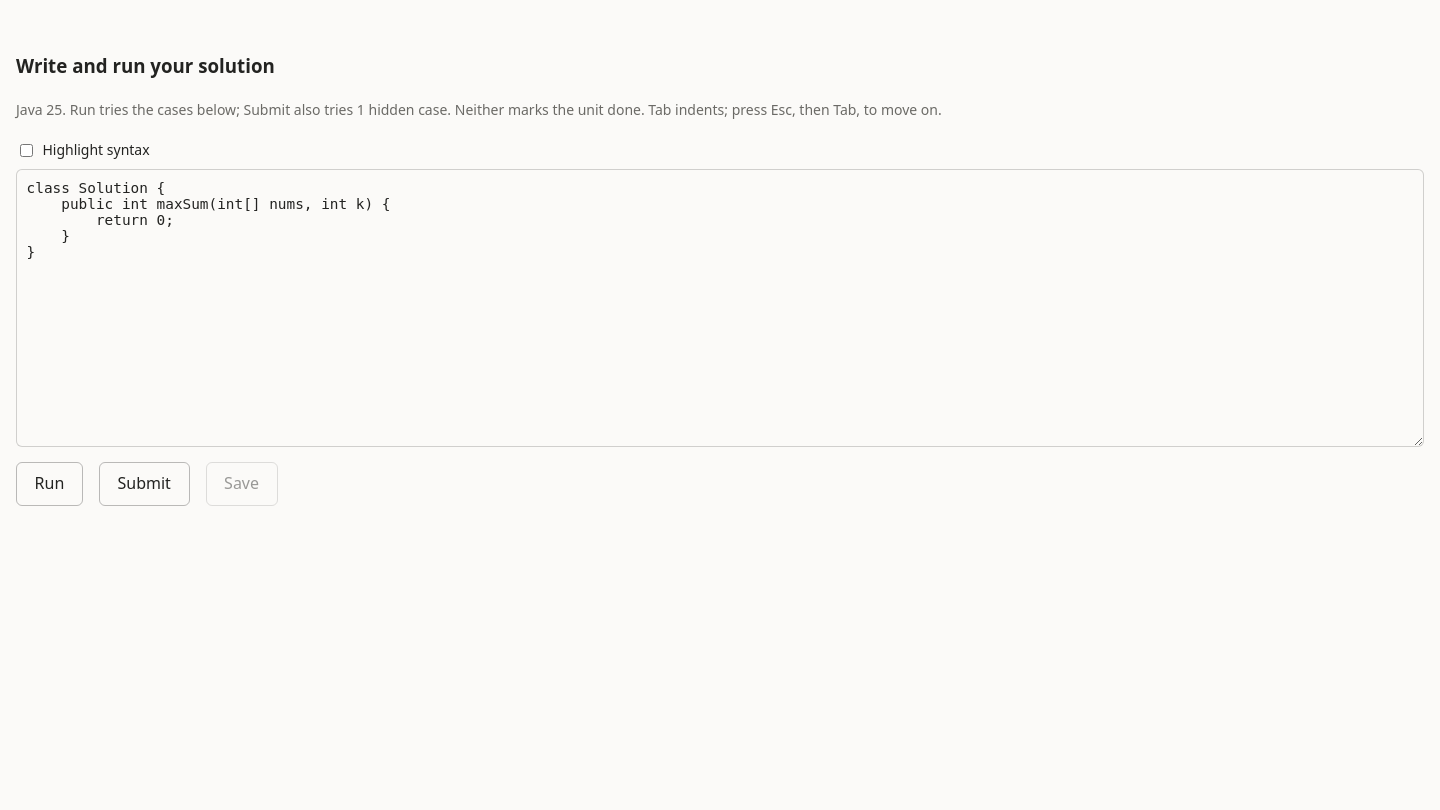
CodeRunner › runs the visible cases and shows each with what the code returned
Click the button "Run". click: {"x": 49, "y": 484}
box: top-left (16, 462), bottom-right (83, 506)
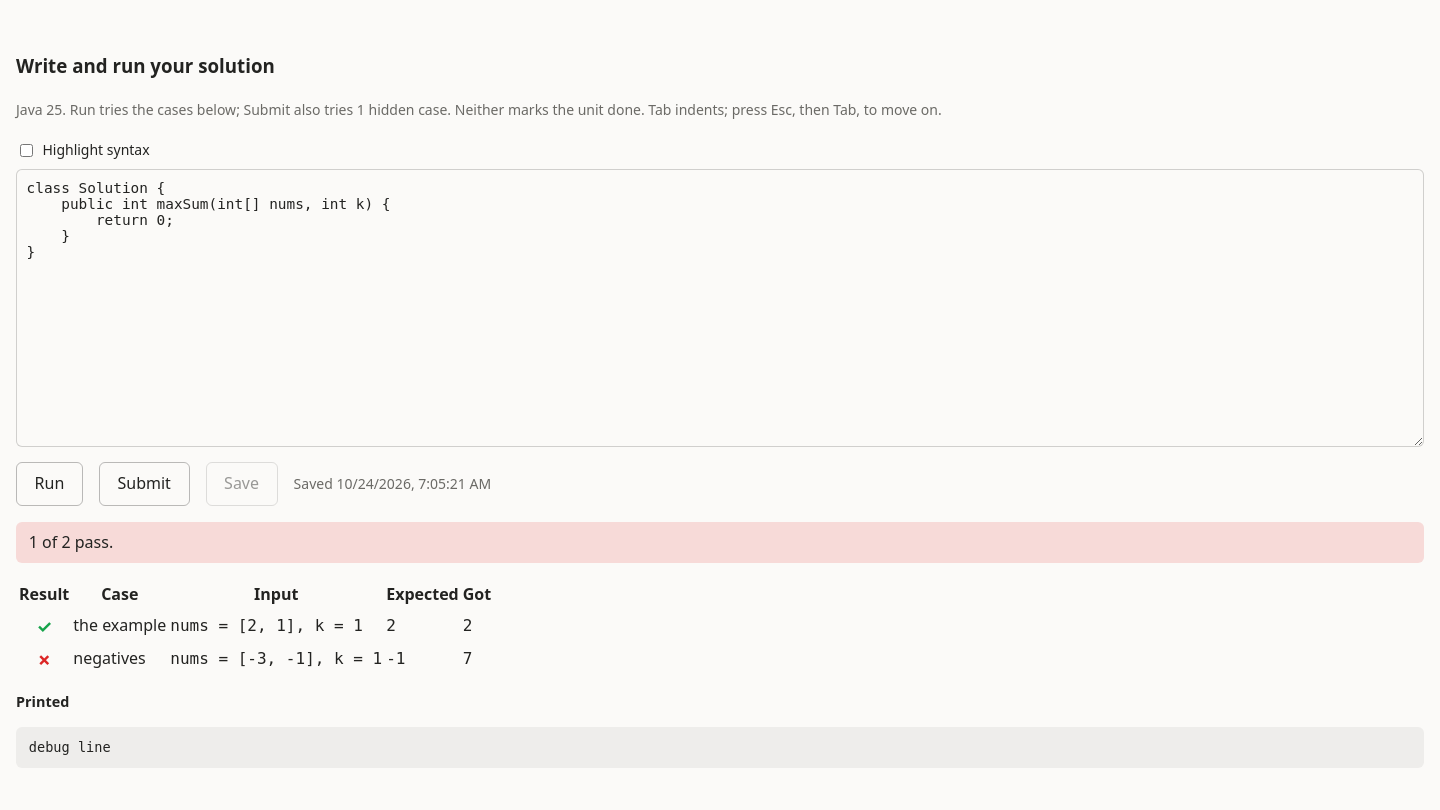
Expected: the row "✓ the example nums = [2, 1], k = 1 2 2" is shown, top-left (18, 611), bottom-right (492, 642)
Expected: the row "✗ negatives nums = [-3, -1], k = 1 -1 7" is shown, top-left (18, 644), bottom-right (492, 674)
Expected: the text "debug line" is shown, top-left (16, 727), bottom-right (1424, 768)
